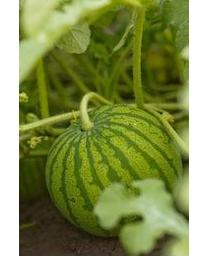watermelon: (44, 104, 182, 237)
